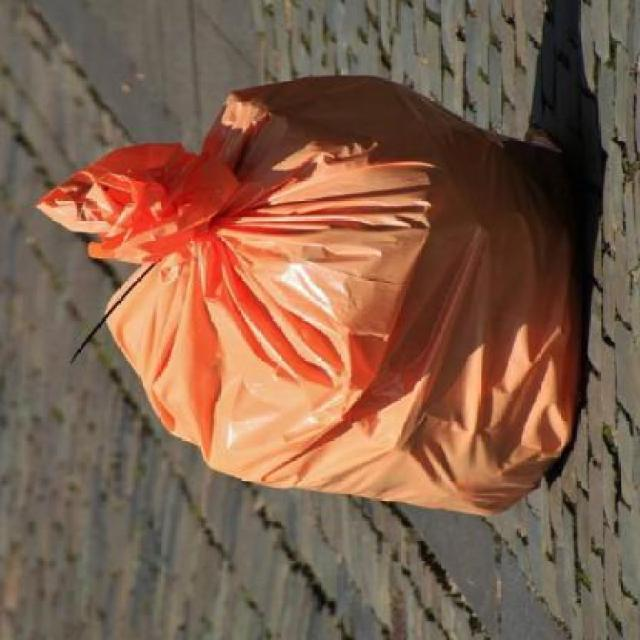Garbage_Bag: (34, 70, 590, 522)
